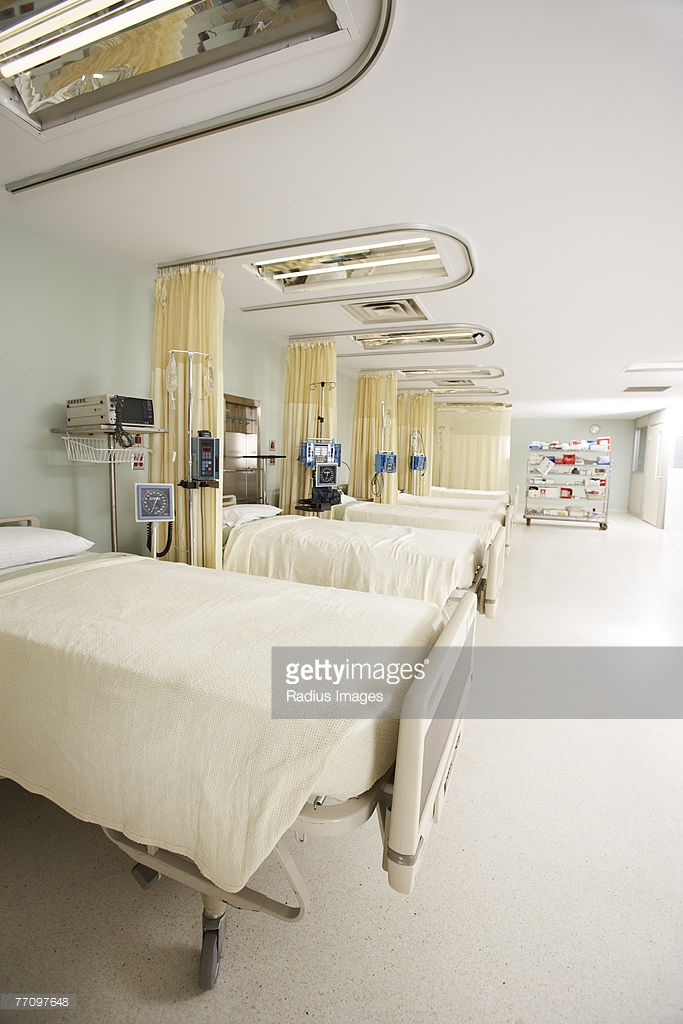hospital bed: (7, 518, 426, 859), (203, 494, 500, 588), (319, 481, 511, 523)
